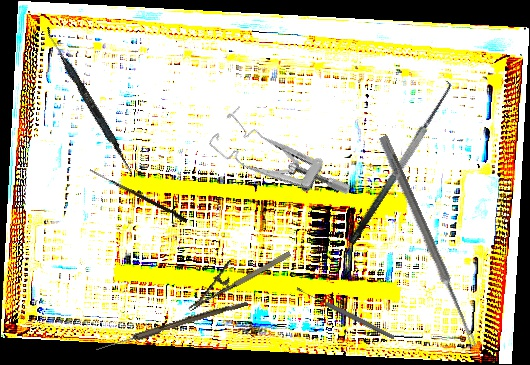Hook Surgical: (87, 169, 189, 223)
Needle Holder: (176, 234, 294, 312)
Spatula Surgical: (334, 75, 460, 246), (40, 26, 137, 174)
Speculum: (204, 94, 354, 234)
Surgical Spoon: (376, 134, 481, 349), (94, 297, 249, 355), (295, 285, 396, 341)
